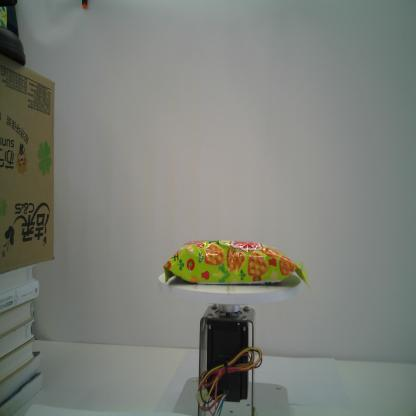Puffed Food: (162, 239, 312, 291)
